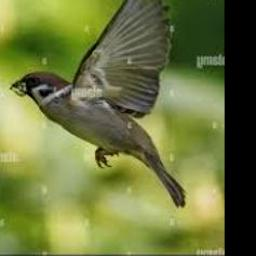Sparrow: (11, 0, 186, 206)
